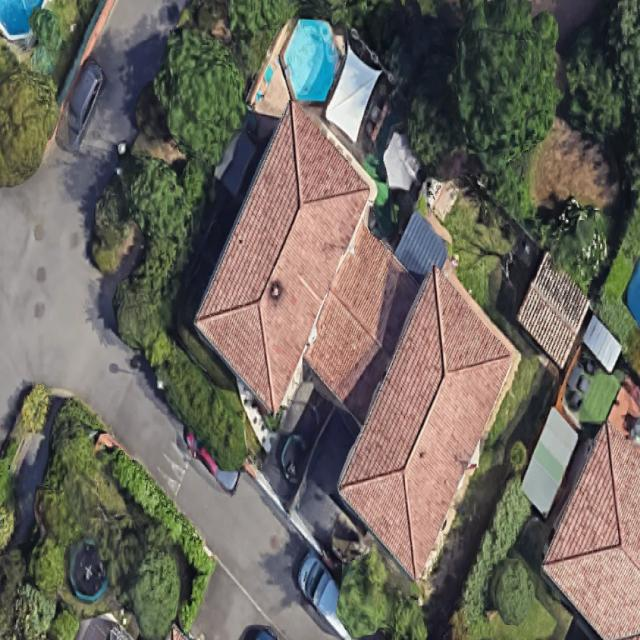maison: (236, 222, 541, 579), (172, 100, 393, 415), (544, 425, 639, 639)
